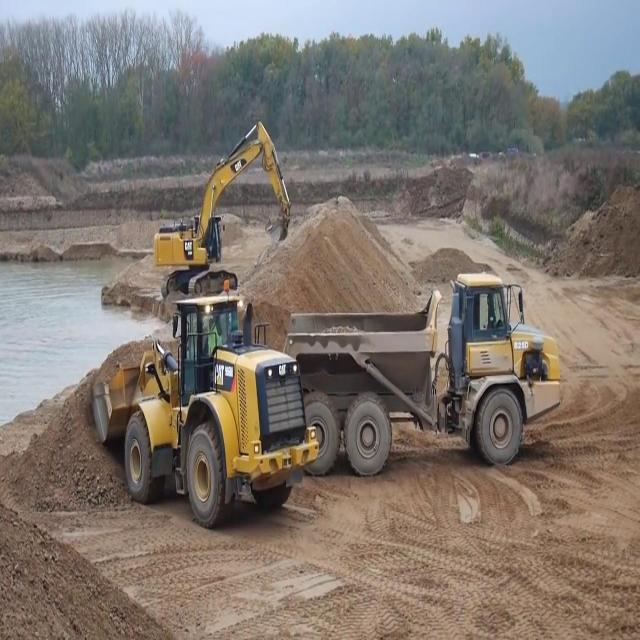Dump Truck: (281, 268, 561, 479)
Excavator: (152, 117, 292, 300)
Loader: (90, 274, 320, 533)
